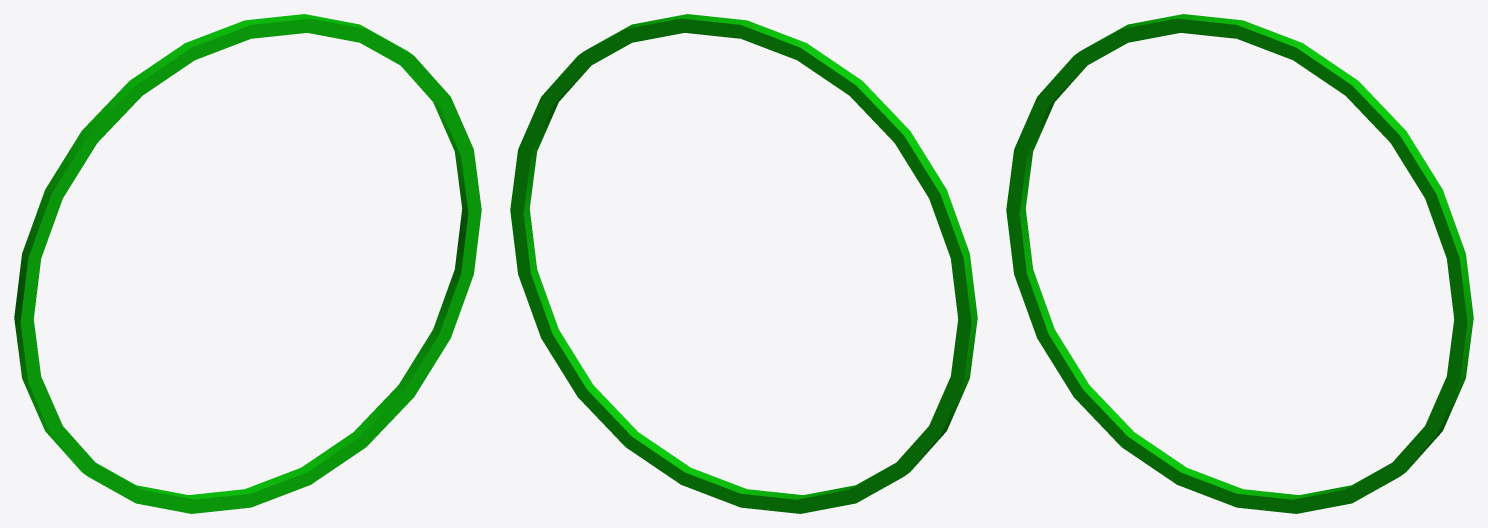
File: beaconIndicator.dae
3 views of the same model, side by side, from view 1: azimuth 30°, elevation 25°; view 2: azimuth 150°, elevation 25°; view 3: azimuth 330°, elevation 25° (orthographic).
Parts seen in each view (by area): view 1: SketchUp (×2); view 2: SketchUp (×2); view 3: SketchUp (×2).
Part boxes in pixels (box(x1,y1,x2,y2)): SketchUp (×2): box(14, 14, 481, 513); SketchUp (×2): box(510, 14, 977, 513); SketchUp (×2): box(1006, 14, 1473, 513).
Bounding box in the file's own units: 458 × 10.8 × 458.
